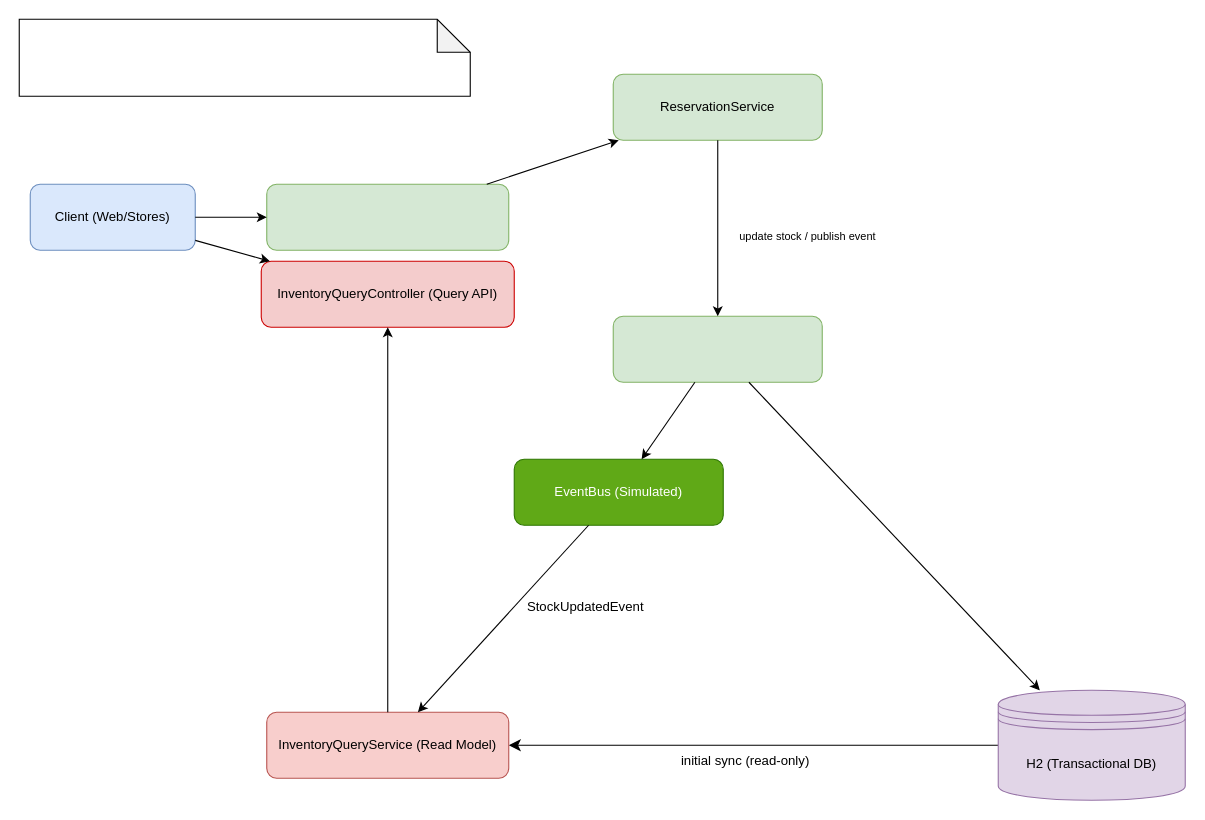
The diagram is 1205 pixels wide and 820 high, and some of its shapes have lost their labels. Here are the shapes that lost their labels. From the top down, the centre of each, then its label:
pixel 244 57: 🟢 Consistency: strong on write (Command Side) 🟠 Eventual on read (Query Side)
pixel 387 216: ReservationController (Command API)
pixel 717 348: InventoryService
